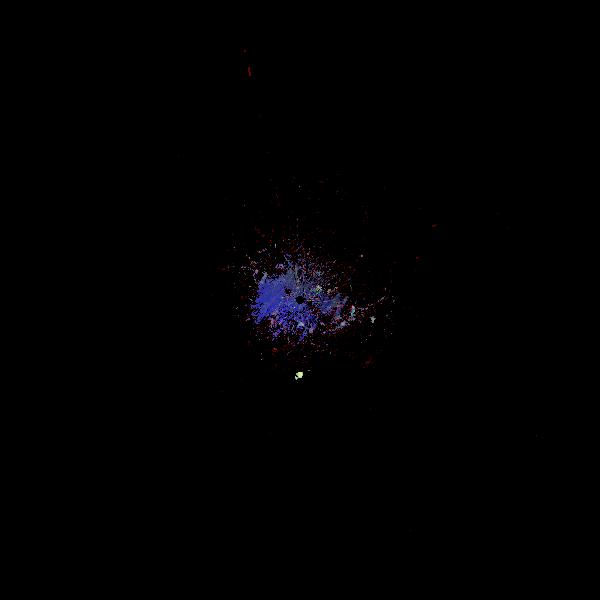roost: (293, 367, 308, 382)
